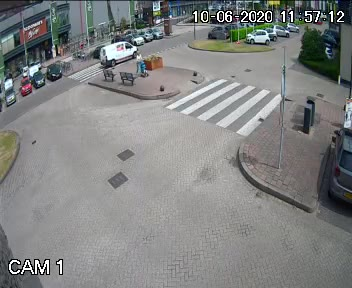car: (96, 39, 143, 72)
